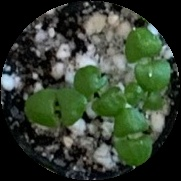Basil: (75, 66, 130, 119), (127, 25, 167, 88), (24, 88, 84, 126), (115, 105, 150, 168), (123, 78, 163, 113)
